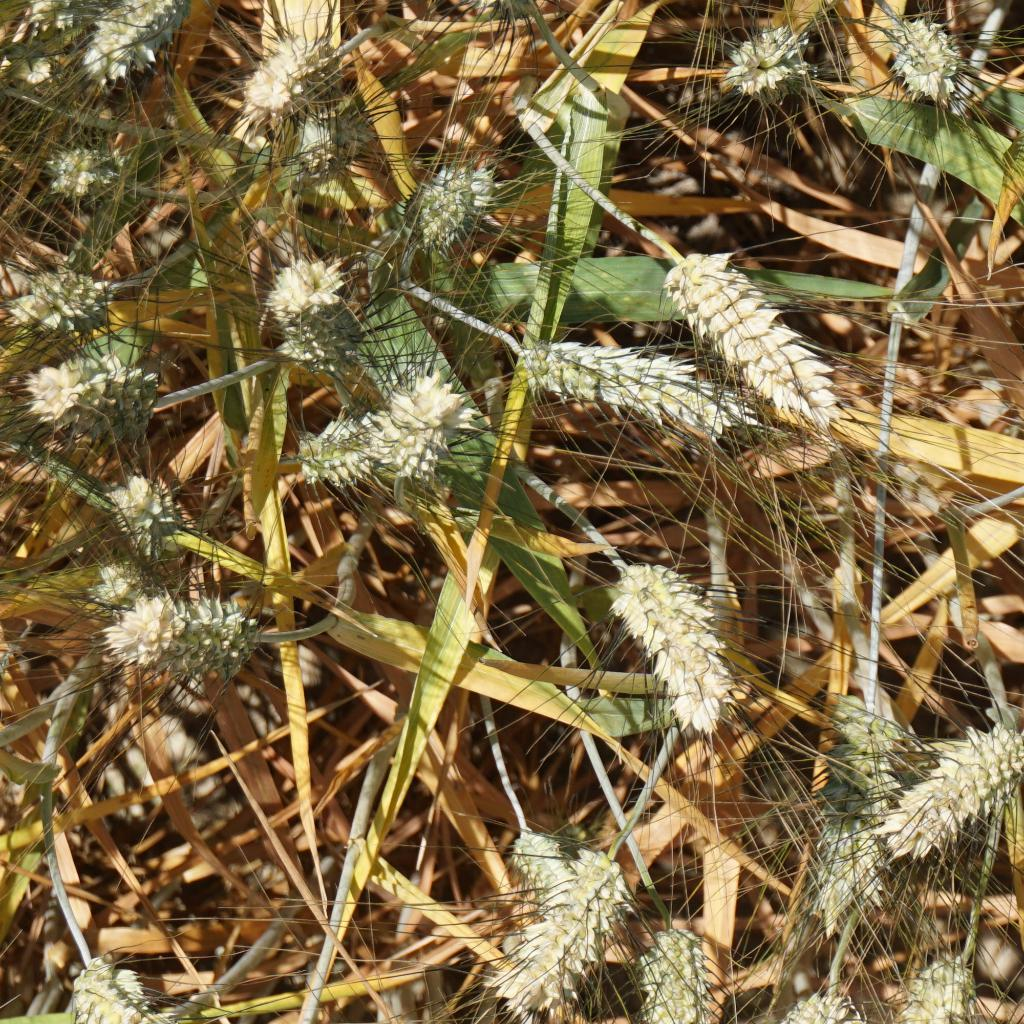0-0: (654, 247, 852, 448), (616, 550, 737, 729), (534, 332, 735, 436), (879, 725, 1024, 858), (89, 587, 268, 689), (510, 847, 619, 984), (822, 695, 893, 896), (17, 354, 148, 450), (58, 944, 156, 1024), (647, 916, 719, 1024), (891, 944, 987, 1024), (1, 263, 128, 323), (254, 251, 361, 321), (394, 372, 474, 465), (887, 17, 966, 108), (721, 22, 809, 99), (77, 0, 192, 58), (95, 471, 178, 550), (288, 98, 373, 174), (274, 315, 371, 381), (291, 416, 386, 482), (412, 156, 485, 231), (74, 553, 164, 612), (236, 23, 296, 107), (508, 827, 573, 900), (1, 34, 60, 93), (43, 139, 109, 186), (2, 0, 108, 26), (779, 986, 838, 1024), (449, 0, 559, 20)
